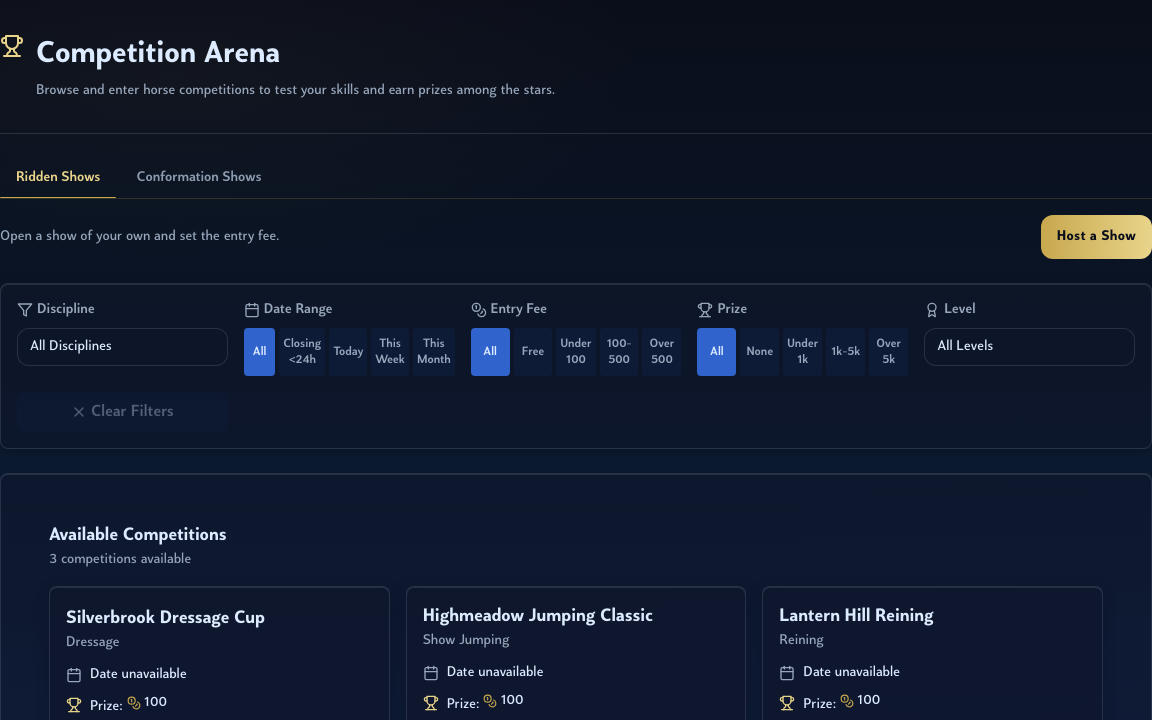
Test: CompetitionBrowserPage — filters apply to the list (Equoria-oey96.12) › the entry-fee filter narrows the list
This screenshot has width=1152, height=720.
expect the heading "Silverbrook Dressage Cup" is shown: met, box [66,609,265,628]
Step 1. Click the button with test id "filter-fee-over500" → (662, 352), box [642,328,681,376]
(page scrolled)
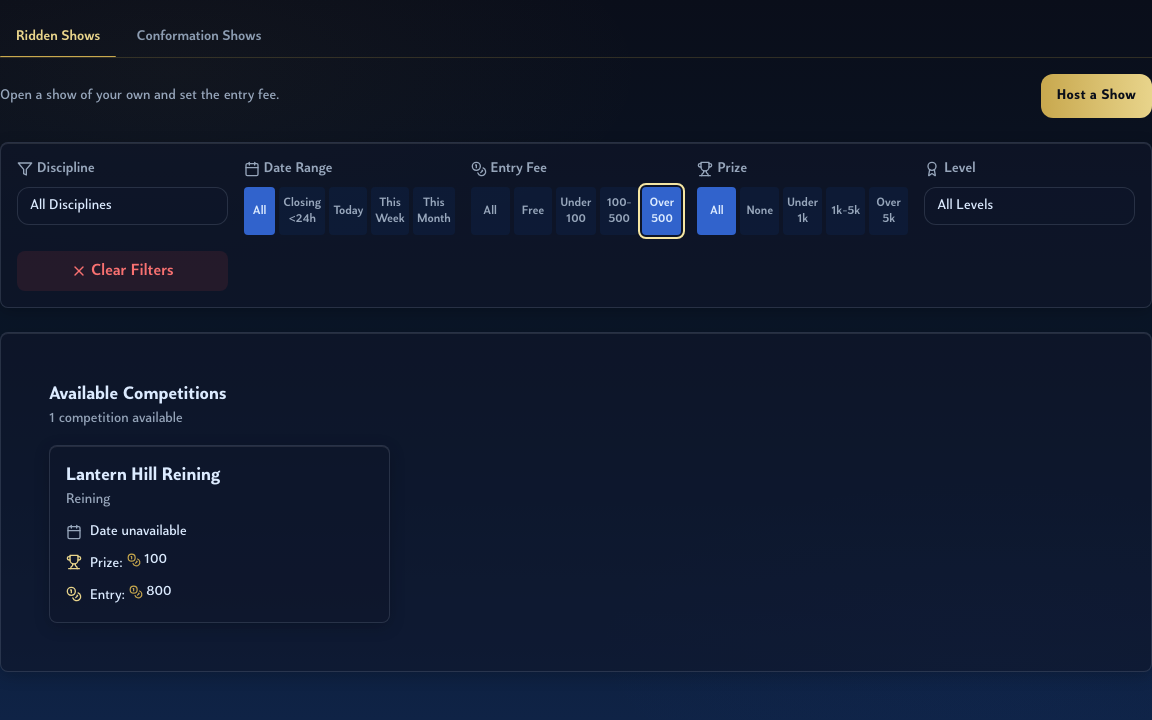
expect the button with test id "competition-card" shows "Lantern Hill Reining": met, box [49,445,390,623]
expect the number of buttons with test id "competition-card" is 1: met, box [49,445,390,623]
